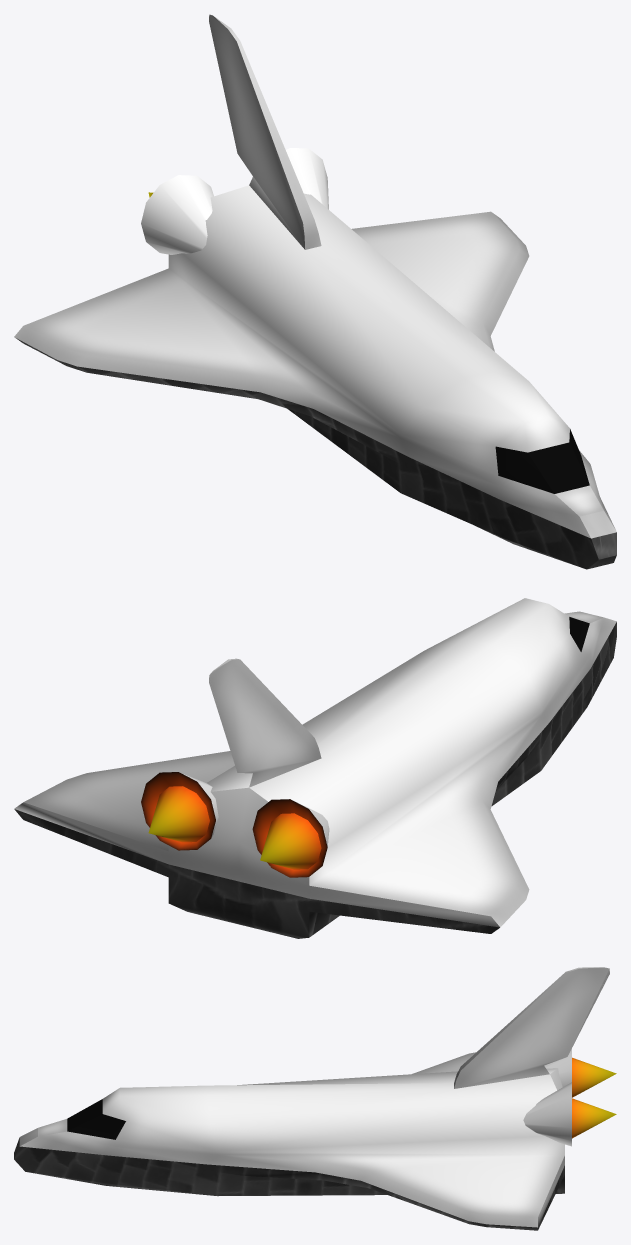
Rendered from SpaceShuttle.FBX.
The picture shows the model from 3 angles, top to bottom: view 1: azimuth 30°, elevation 25°; view 2: azimuth 150°, elevation 25°; view 3: azimuth 270°, elevation 25°; orthographic projection. The views are drawn at different scales.
Visible parts, largest first — view 1: SpaceShuttle; view 2: SpaceShuttle; view 3: SpaceShuttle.
Boxes of the visible parts, x1,y1,x2,y2 form: SpaceShuttle: (14,14,616,569); SpaceShuttle: (14,598,616,938); SpaceShuttle: (14,967,616,1230).
Bounding box in the file's own units: 40.58 × 22.27 × 58.31.
